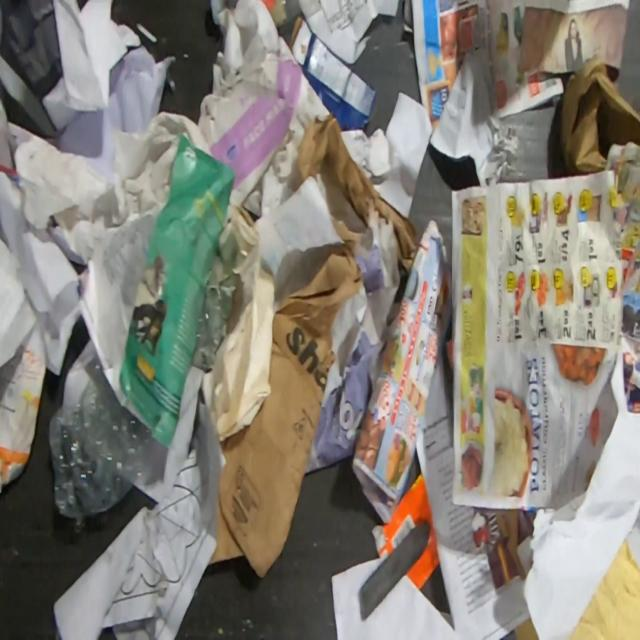cardboard: (288, 15, 379, 131), (558, 51, 640, 177), (0, 343, 47, 487)
rigid_plastic: (49, 365, 156, 519), (190, 271, 248, 371)
